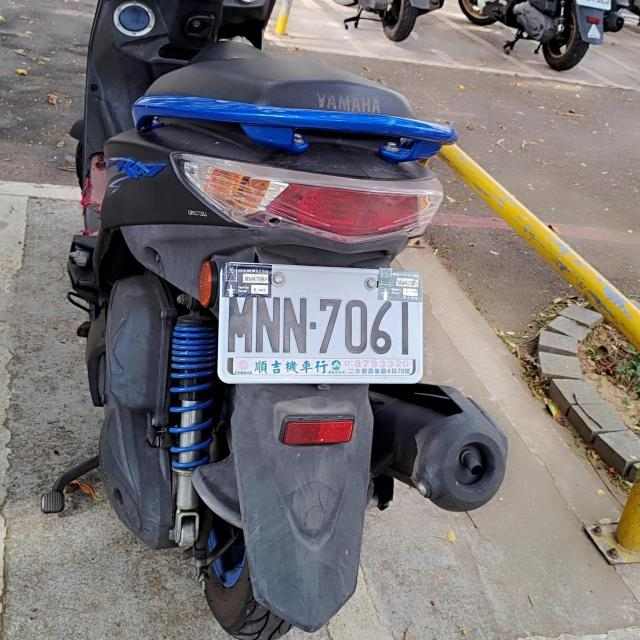W: (216, 261, 422, 383)
